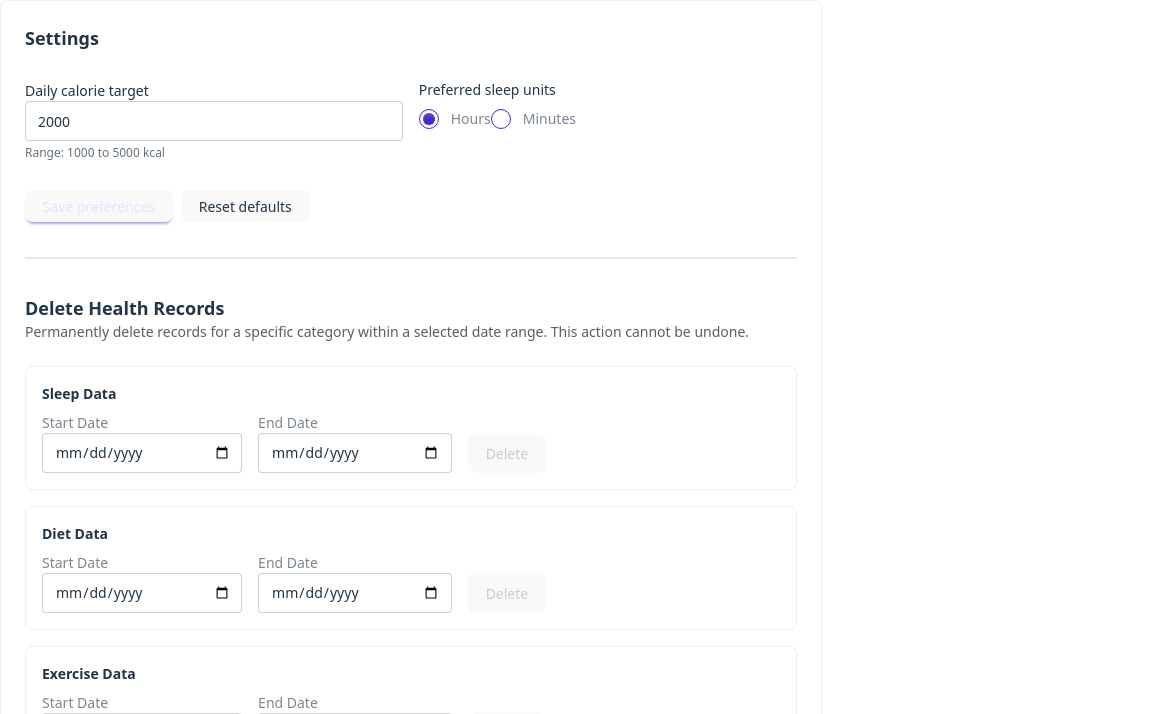
Test: SettingsPanel › saves preferences and shows a confirmation
This screenshot has width=1152, height=714.
Replace the text in the number field with "2400" at (214, 121), box x1=25 y1=101 x2=403 y2=141
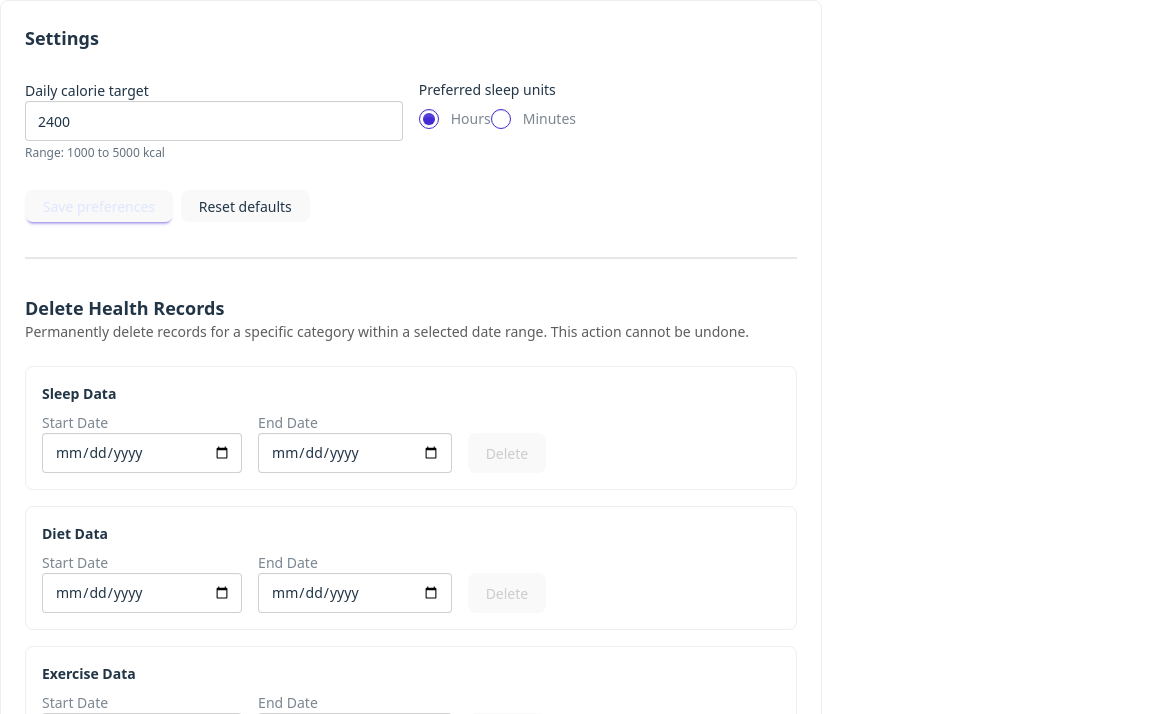
Click the radio button labelled "Minutes" at (501, 118), box x1=491 y1=108 x2=511 y2=128
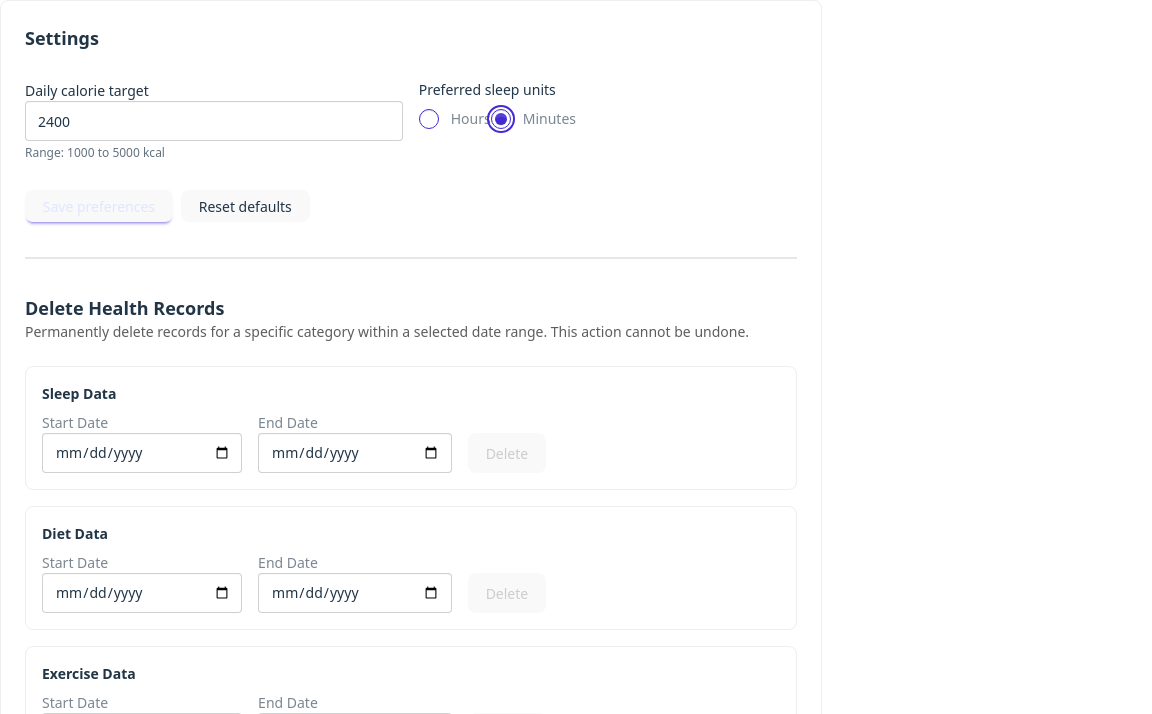
Click the button "Save preferences" at (99, 206), box x1=25 y1=190 x2=173 y2=222
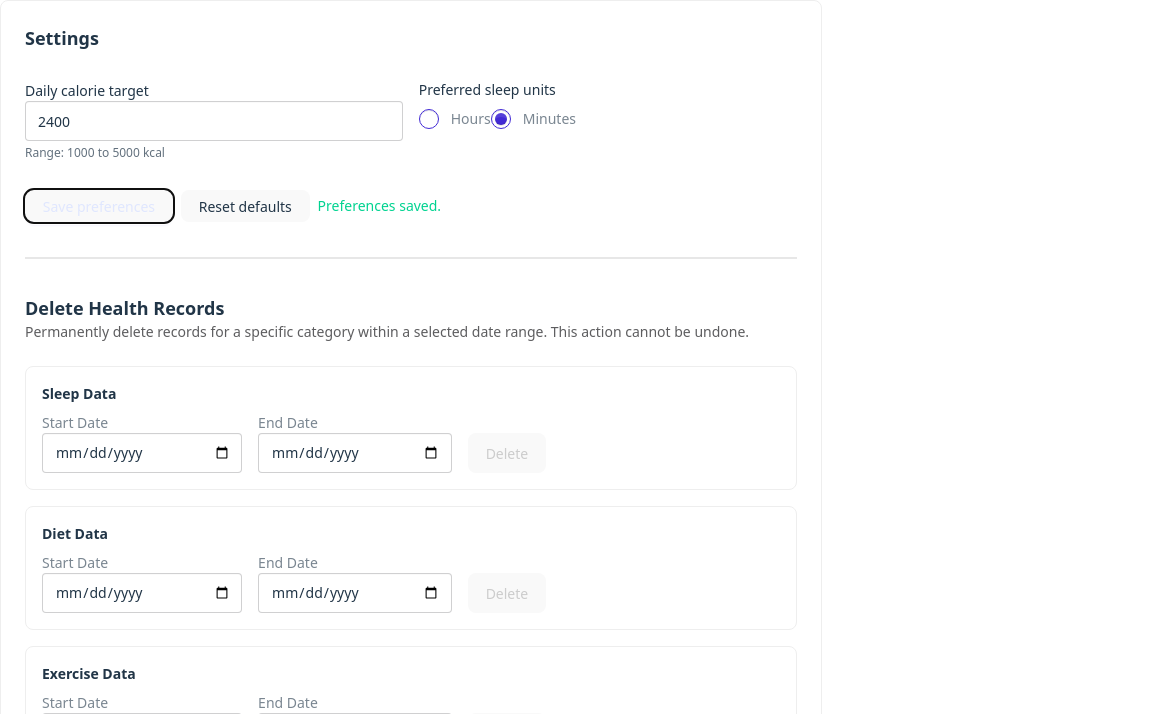
Check: the message reads "Preferences saved.", box x1=318 y1=196 x2=441 y2=215
